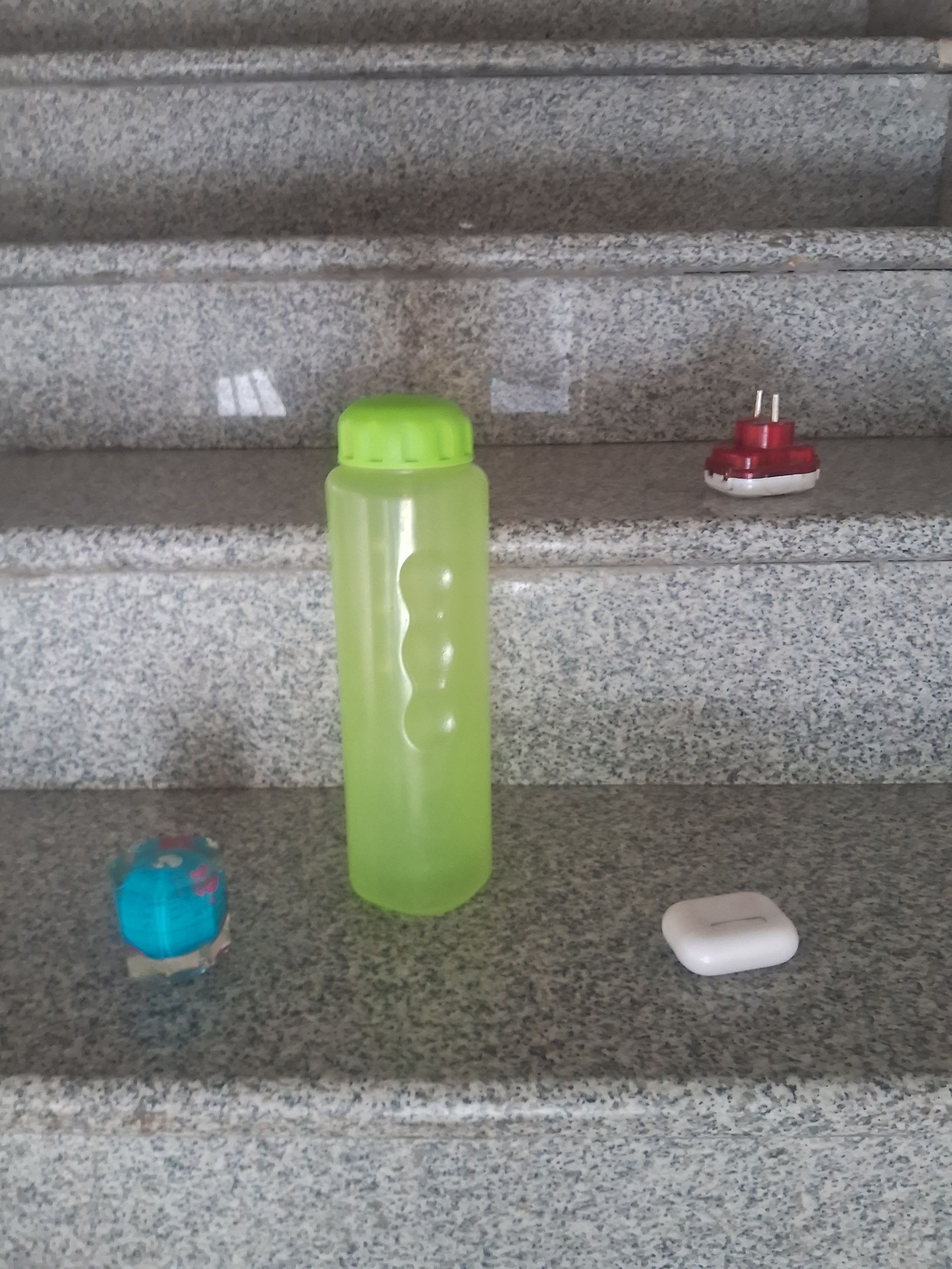Air_pod: (655, 888, 803, 977)
Multi_adapter: (699, 386, 823, 503)
Water_bottle: (321, 395, 498, 921)
world_globe: (102, 827, 239, 987)
